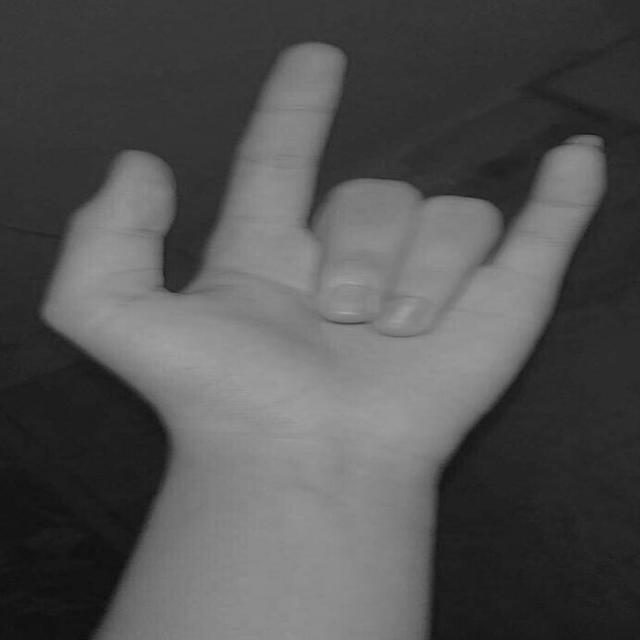i love you: (25, 35, 622, 478)
